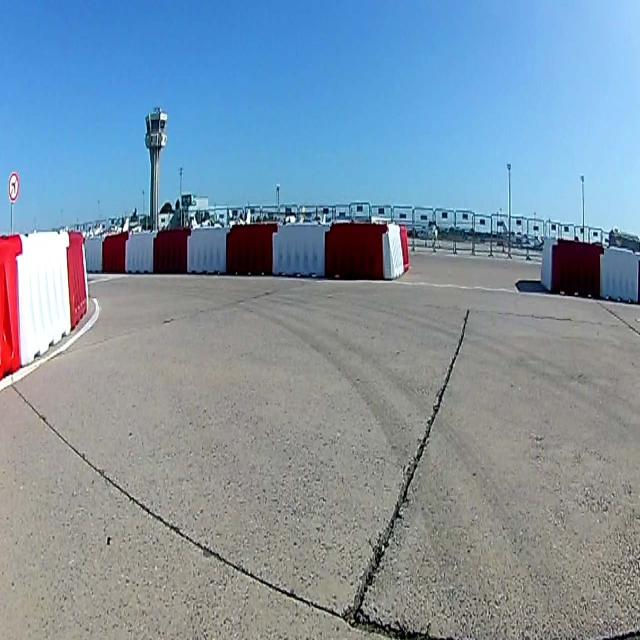soladonulmez: (8, 172, 19, 201)
